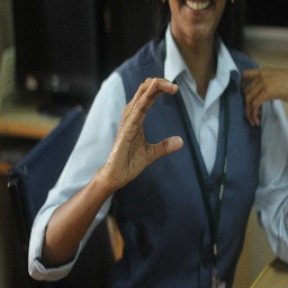C: (111, 76, 199, 170)
